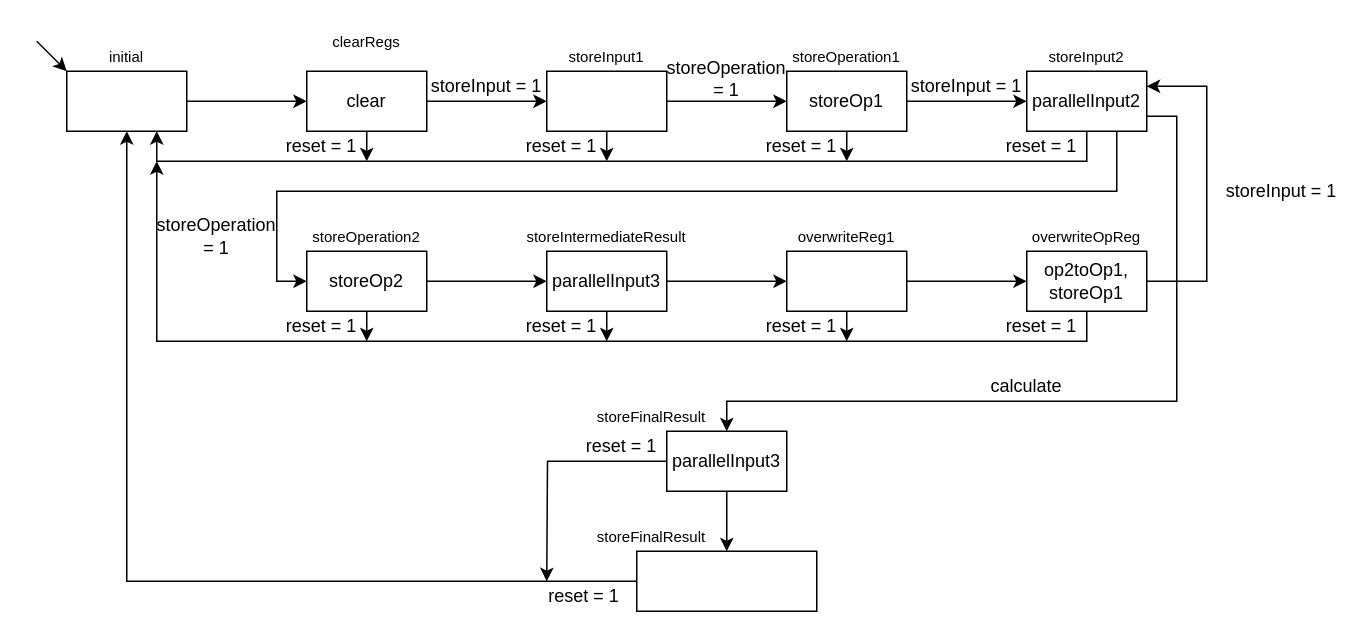
Some shapes in this 1368 by 638 pixel diagram are drawn without their labels. Each missing label, with the centre of its shape:
"parallelInput1" goes at (x=606, y=100).
"reg3toReg1, parallelInput1" goes at (x=846, y=280).
"showFinalResult" goes at (x=726, y=580).
